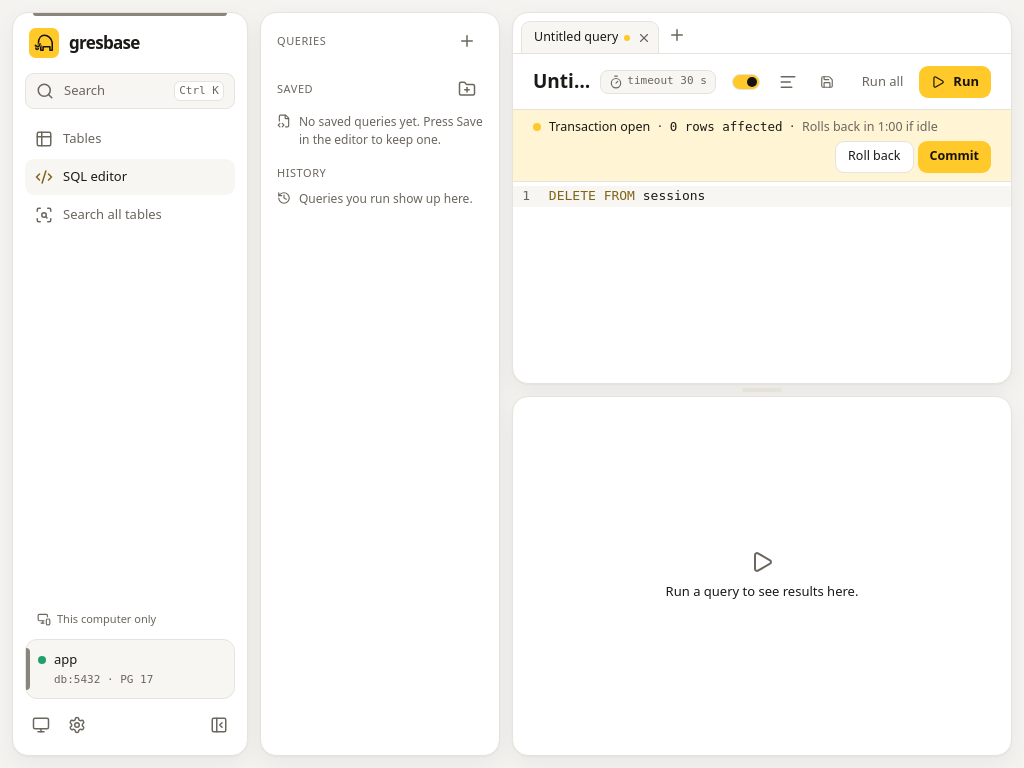
Test: transaction mode › explains an expired transaction found when running
This screenshot has width=1024, height=768.
Click the button "Run" at (955, 82), box [919,66,991,98]
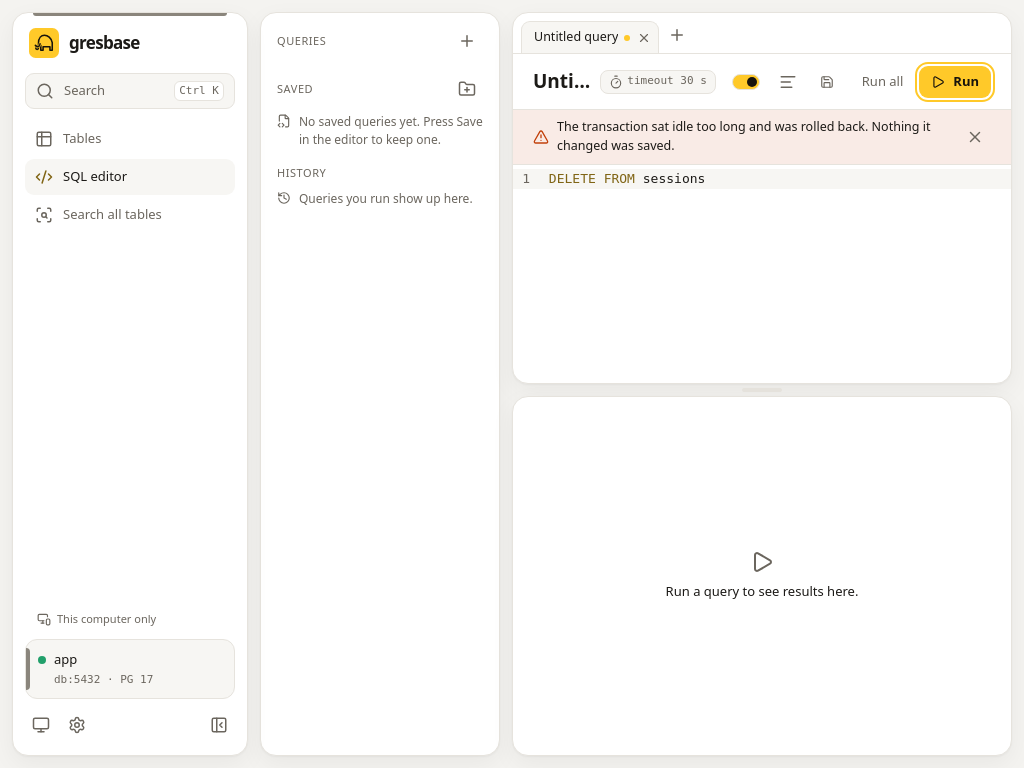
Check: the 2nd message shows "was rolled back", box [557,118,930,154]
